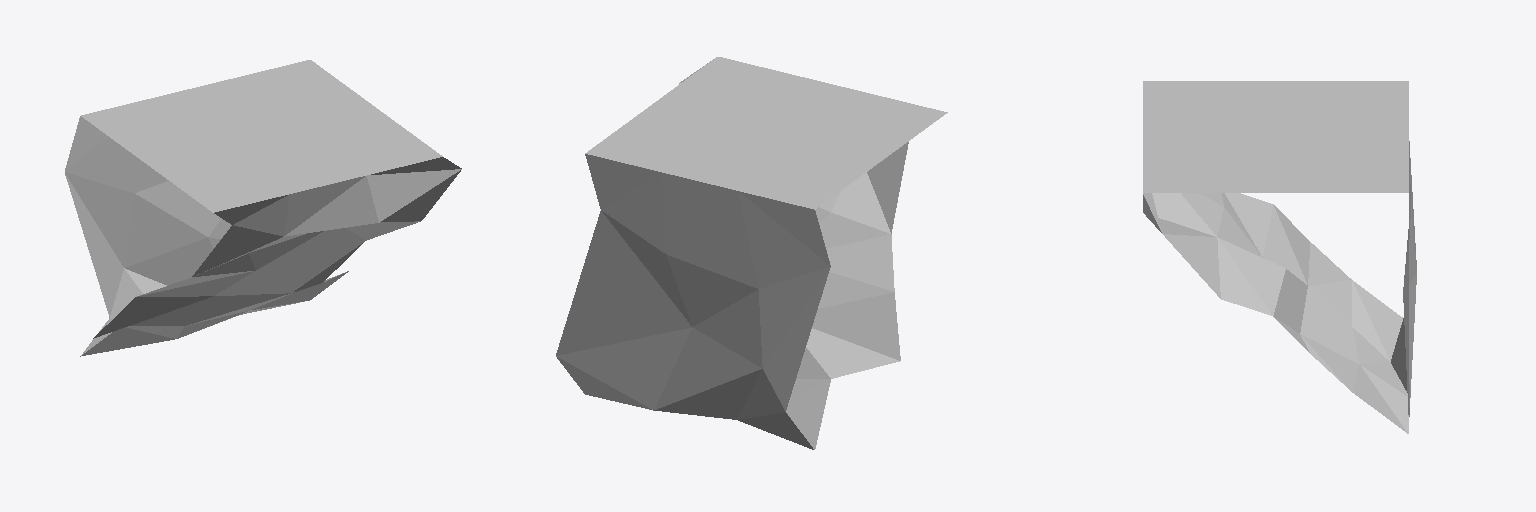
The model's file is RockPlatform4.obj.
3 views of the same model, side by side, from view 1: azimuth 30°, elevation 25°; view 2: azimuth 150°, elevation 25°; view 3: azimuth 270°, elevation 25° (orthographic).
Parts seen in each view (by area): view 1: Cube.004; view 2: Cube.004; view 3: Cube.004.
Part boxes in pixels (x1,y1,x2,y2): Cube.004: (65, 60, 461, 356); Cube.004: (556, 57, 947, 449); Cube.004: (1143, 81, 1416, 433).
Bounding box in the file's own units: 2.57 × 2 × 2.06.